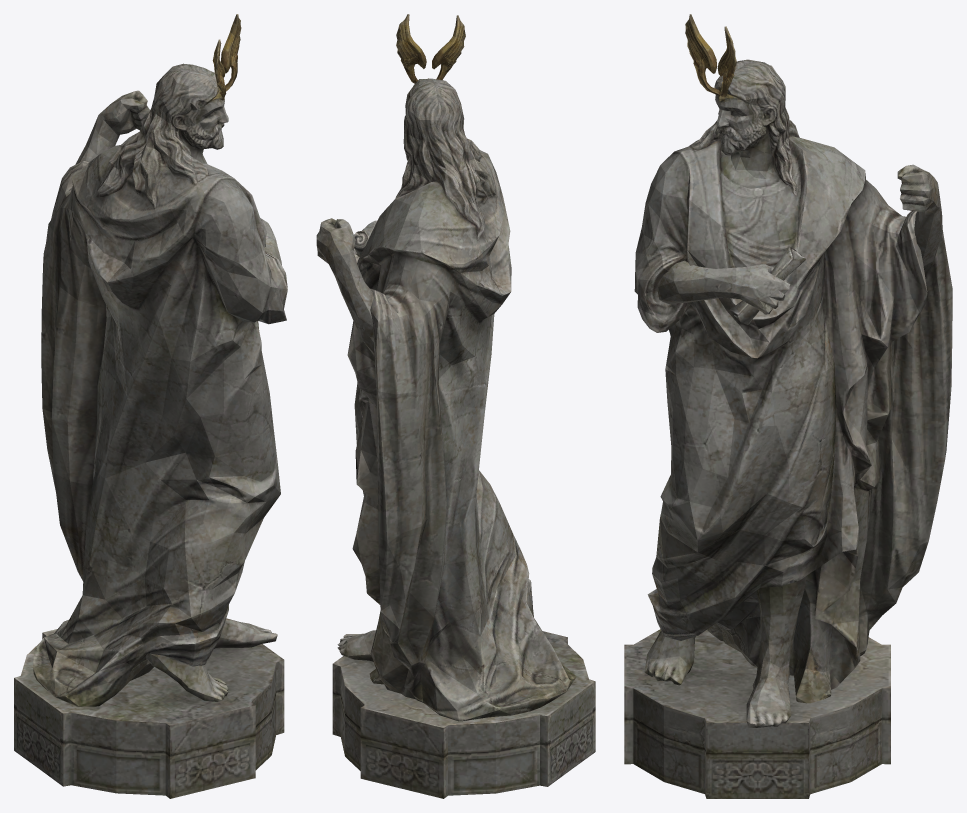
Rendered from bg_lut_lucastle_herostatue06_sm_artree.FBX.
3 renders of one model, left to right at view 1: azimuth 30°, elevation 25°; view 2: azimuth 150°, elevation 25°; view 3: azimuth 270°, elevation 25°, orthographic. The views are drawn at different scales.
Parts seen in each view (by area): view 1: bg_lut_lucastle_herostatue06_sm_artree; view 2: bg_lut_lucastle_herostatue06_sm_artree; view 3: bg_lut_lucastle_herostatue06_sm_artree.
Part boxes in pixels (bbox=[...]): bg_lut_lucastle_herostatue06_sm_artree: bbox=[14, 14, 287, 798]; bg_lut_lucastle_herostatue06_sm_artree: bbox=[316, 14, 595, 798]; bg_lut_lucastle_herostatue06_sm_artree: bbox=[624, 14, 952, 798].
Size of the model in its own units: 129 by 378 by 150.
